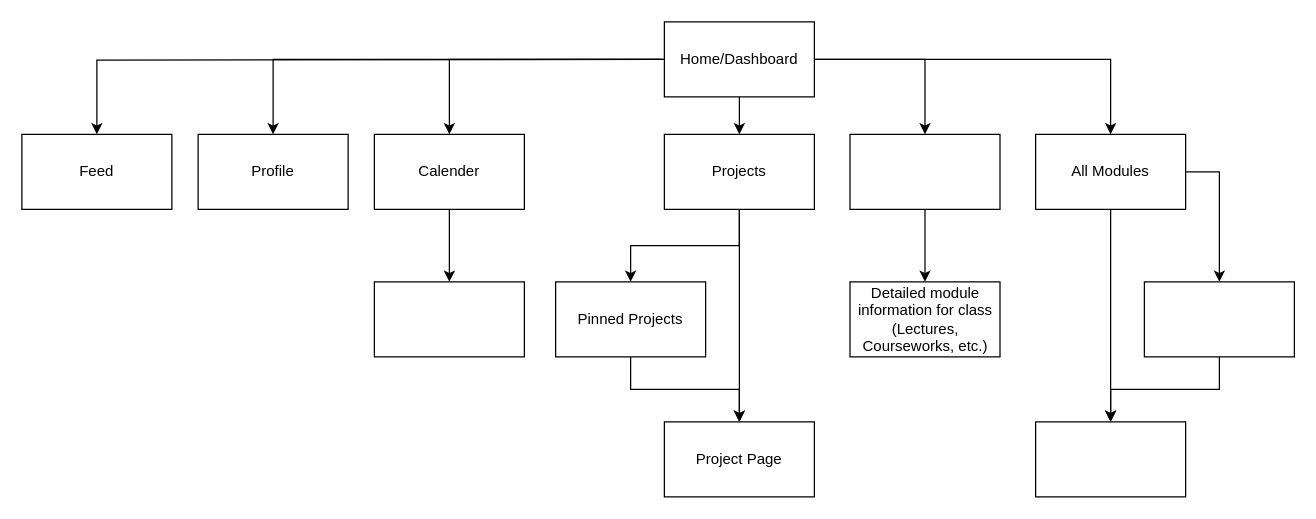
This 1316x519 diagram has some shape labels left out. Here are the shapes that lost their labels. From the top down, the centre of each, then its label:
At (924,171): "My Modules".
At (448,319): "Calender event".
At (1218,319): "Advanced search".
At (1110,459): "Detailed overview of modulde".
